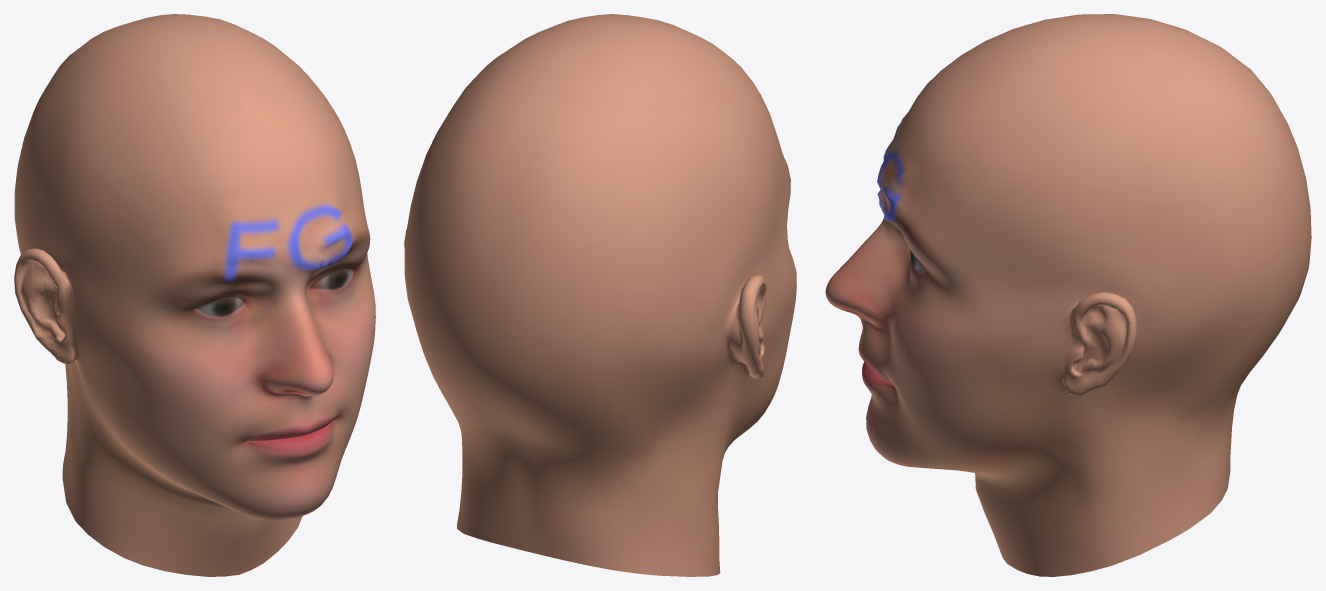
The model's file is avg_european_anysex.obj.
The picture shows the model from 3 angles, left to right: view 1: azimuth 30°, elevation 25°; view 2: azimuth 150°, elevation 25°; view 3: azimuth 270°, elevation 25°; orthographic projection. The views are drawn at different scales.
Visible parts, largest first — view 1: HeadHires; view 2: HeadHires; view 3: HeadHires.
Part boxes in pixels (x1=…): HeadHires: x1=14, y1=14, x2=375, y2=576; HeadHires: x1=404, y1=14, x2=796, y2=576; HeadHires: x1=825, y1=14, x2=1311, y2=576.
Size of the model in its own units: 189 by 283 by 238.
3 materials, 3 textured.
